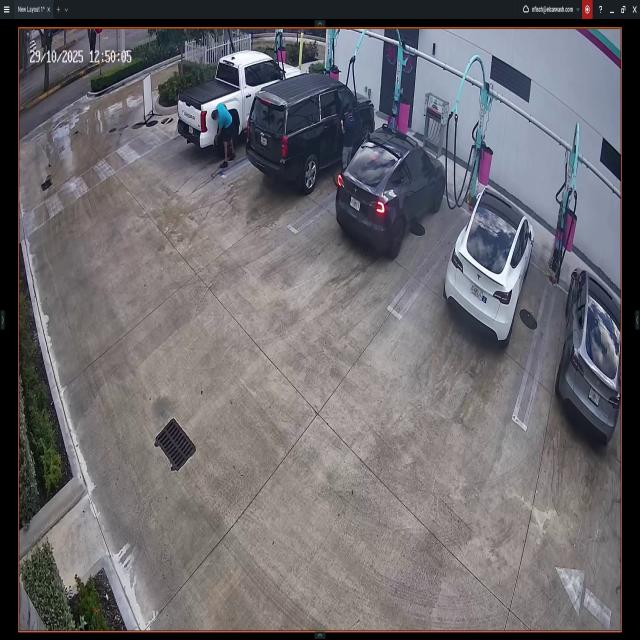Car: (332, 129, 445, 259), (248, 77, 374, 193), (447, 186, 534, 344), (178, 46, 302, 156), (555, 265, 619, 442)
